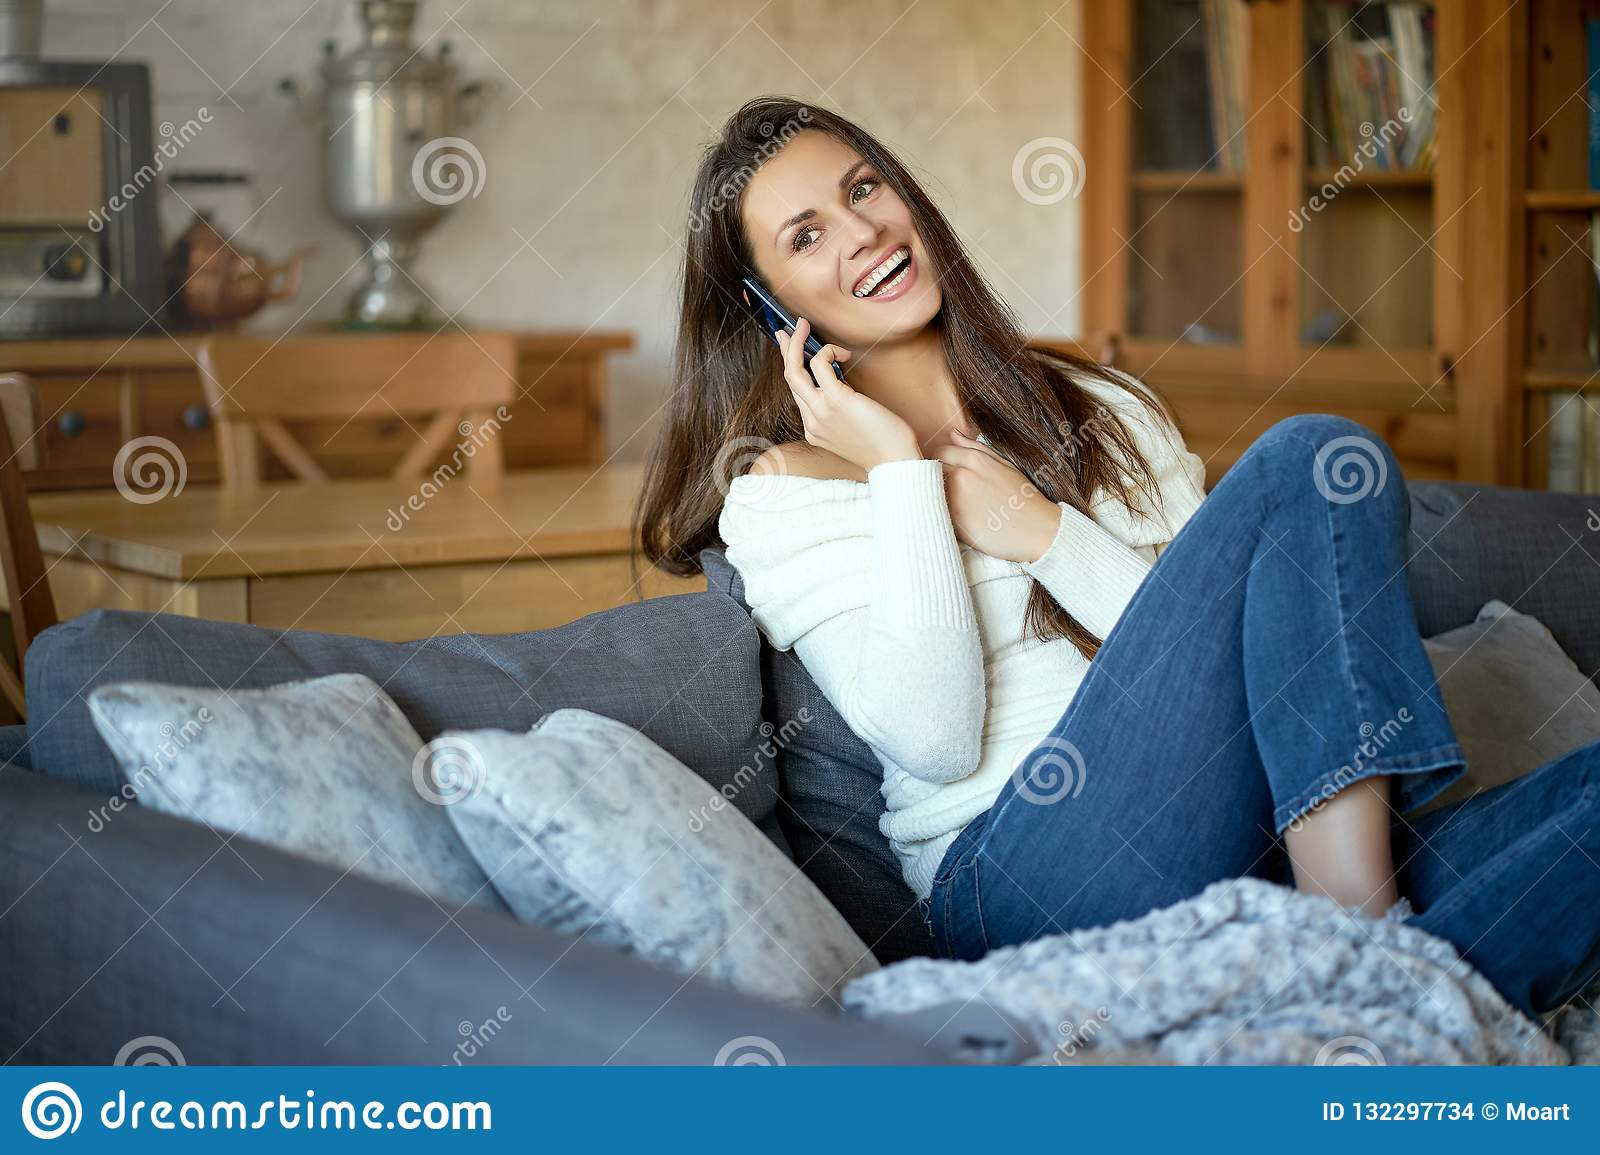phone: (747, 272, 856, 397)
talk: (742, 154, 945, 472)
